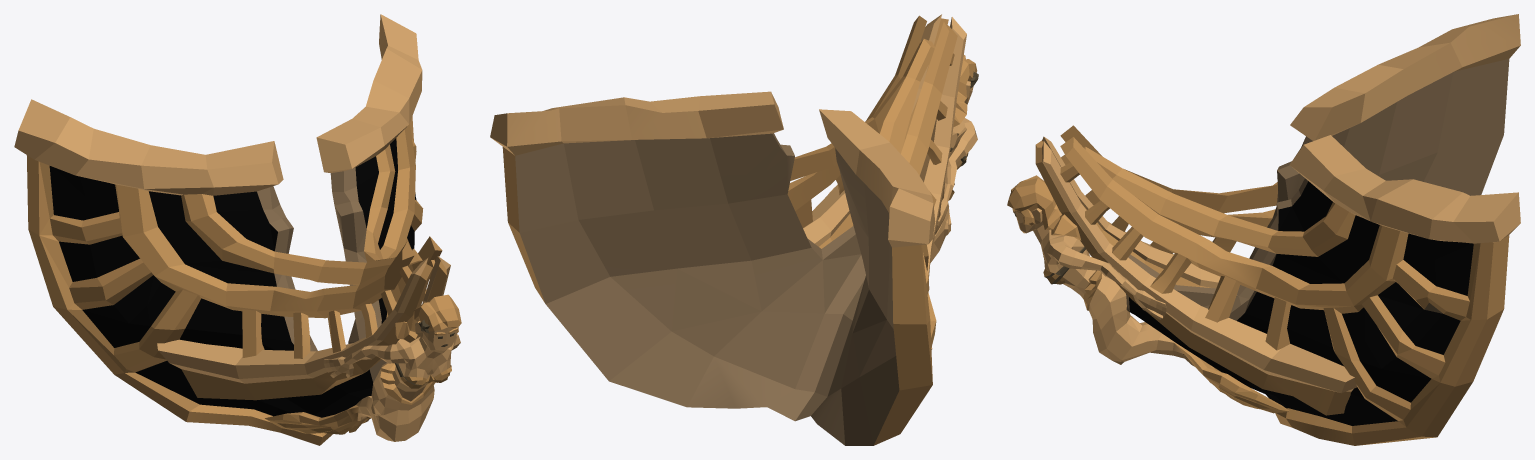
File: SM_Veh_Ship_M_Figurehead_01.fbx
The picture shows the model from 3 angles, left to right: view 1: azimuth 30°, elevation 25°; view 2: azimuth 150°, elevation 25°; view 3: azimuth 270°, elevation 25°; orthographic projection. The views are drawn at different scales.
Parts seen in each view (by area): view 1: SM_Veh_Ship_M_Figurehead_01; view 2: SM_Veh_Ship_M_Figurehead_01; view 3: SM_Veh_Ship_M_Figurehead_01.
Part boxes in pixels (left/top/right/bottom): SM_Veh_Ship_M_Figurehead_01: left=14, top=14, right=461, bottom=445; SM_Veh_Ship_M_Figurehead_01: left=490, top=14, right=978, bottom=445; SM_Veh_Ship_M_Figurehead_01: left=1007, top=14, right=1520, bottom=445.
Bounding box in the file's own units: 570 × 416 × 605.
